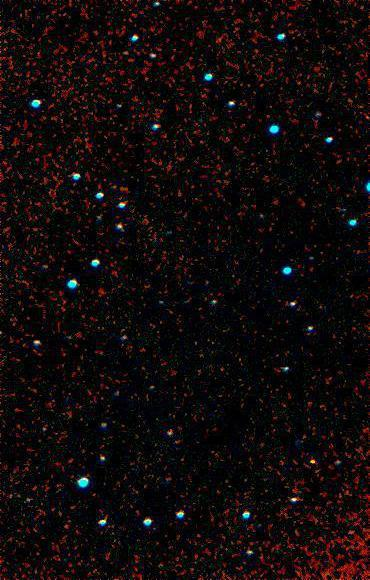star: (294, 446, 324, 476)
